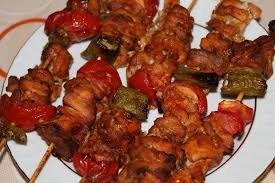kebap: (36, 60, 120, 160), (127, 4, 193, 89), (82, 0, 158, 67), (73, 108, 140, 182), (149, 82, 206, 142), (127, 135, 176, 182), (6, 68, 59, 104), (184, 133, 223, 162), (200, 32, 233, 57), (169, 165, 204, 182)
